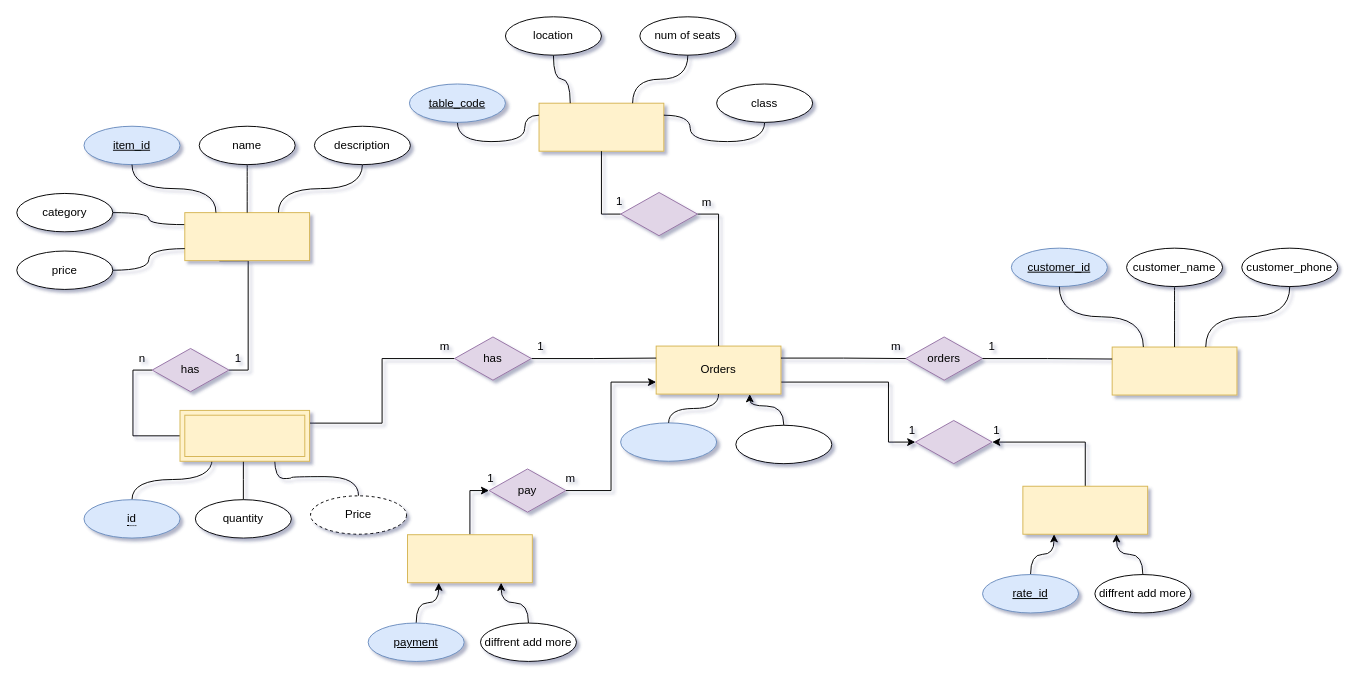
Some shapes in this 1360 by 684 pixel diagram are drawn without their labels. Here are the shapes that lost their labels. From the top down, the centre of each, then its label:
the point at 601,126: Tables
the point at 658,214: on
the point at 247,236: Menu Items
the point at 1174,370: Customers
the point at 244,435: Order Details
the point at 668,441: order_id
the point at 783,444: order_date
the point at 953,442: rates
the point at 1085,509: Rate
the point at 469,558: payment method
